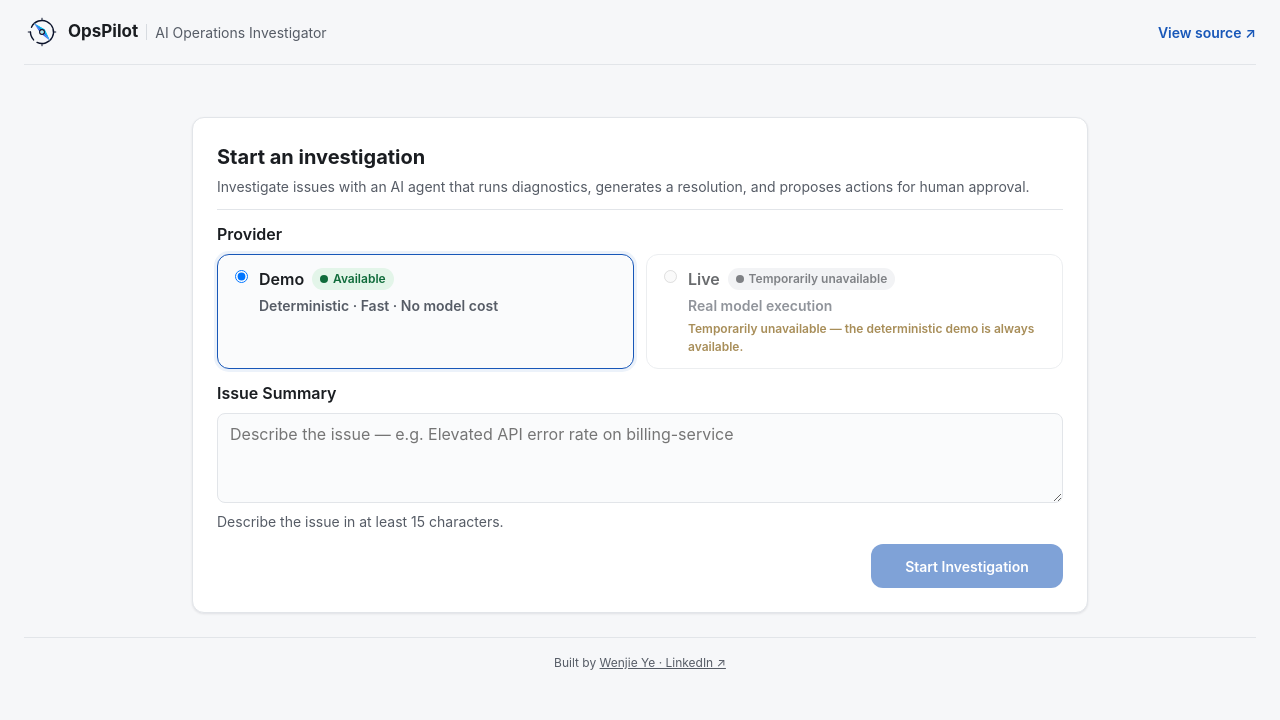
Sole live-region text uses the canonical stage-label source › run request: exact text while POST .../runs is in flight
Type "Elevated error rate" into the text box labelled "Issue Summary" at (640, 458), box [217, 413, 1063, 503]
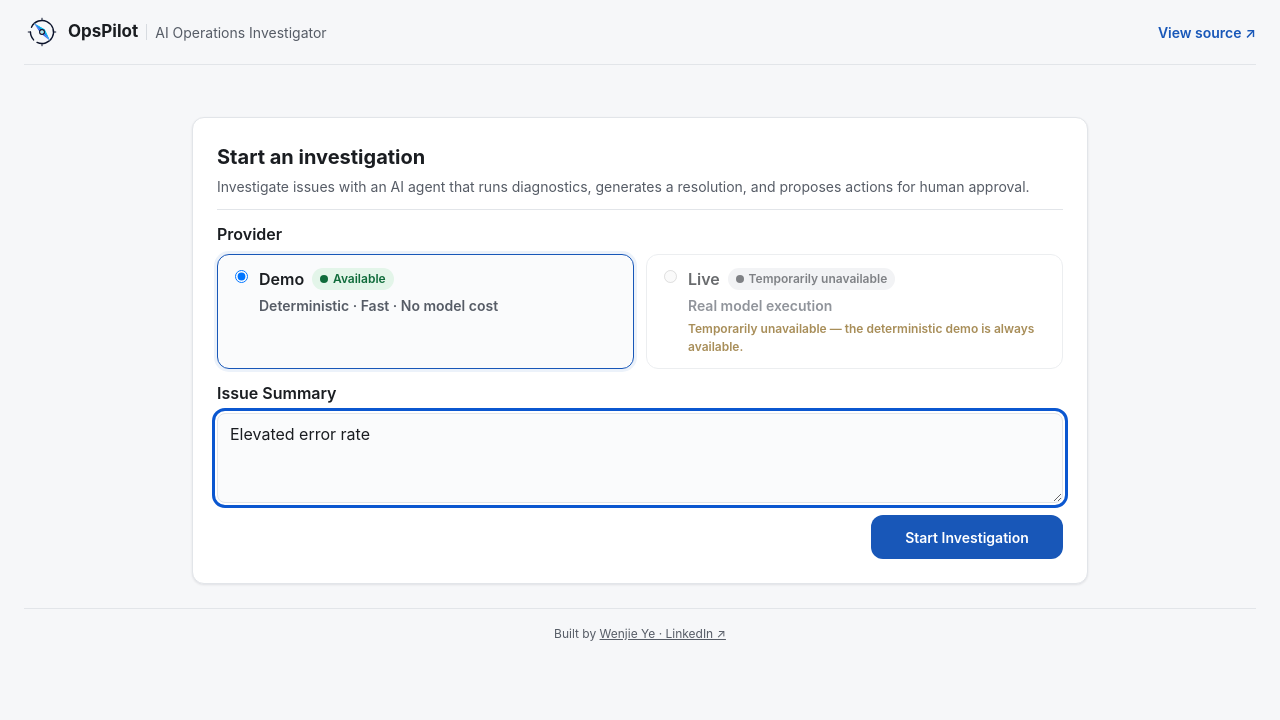
Click the button "Start Investigation" at (967, 537), box [871, 515, 1063, 559]
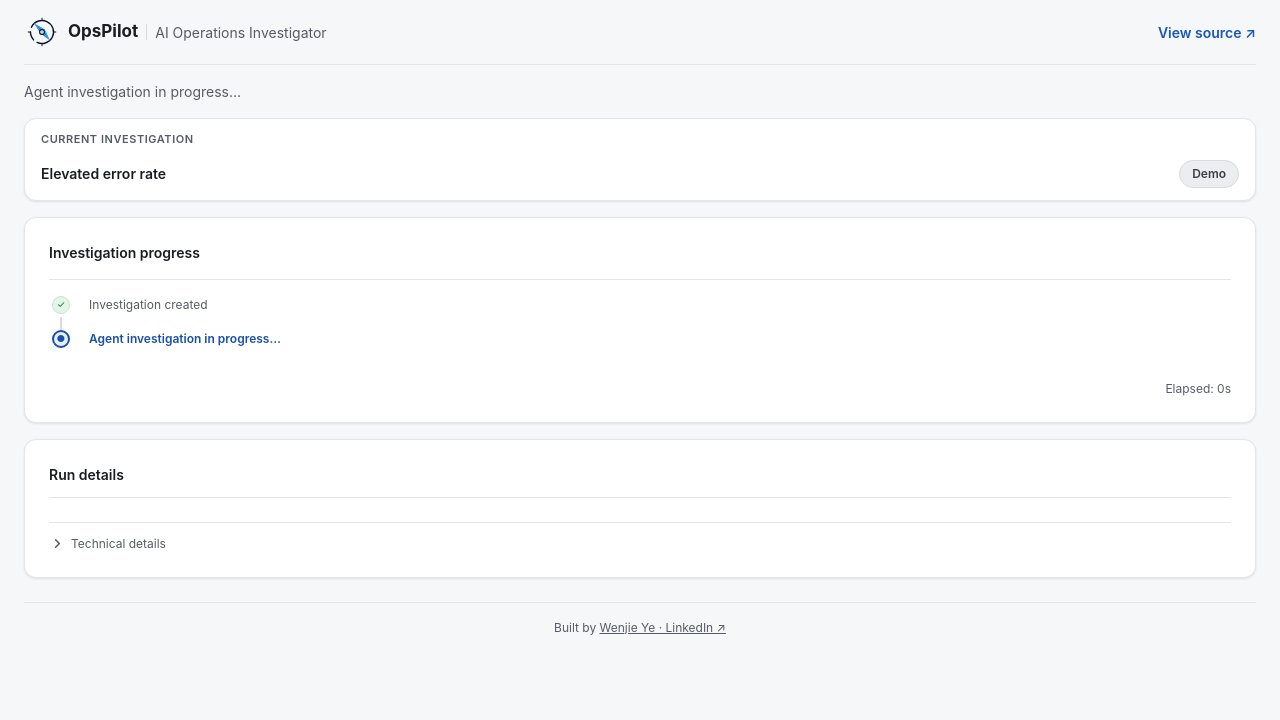
Check: the number of messages is 1, box [24, 83, 241, 100]
Check: the message reads "Agent investigation in progress…", box [24, 83, 241, 100]
